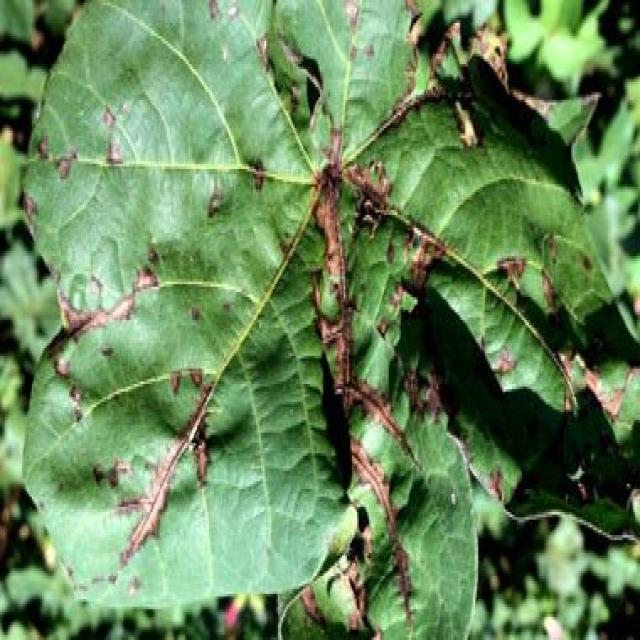Bacterial Blight: (197, 156, 498, 496)
